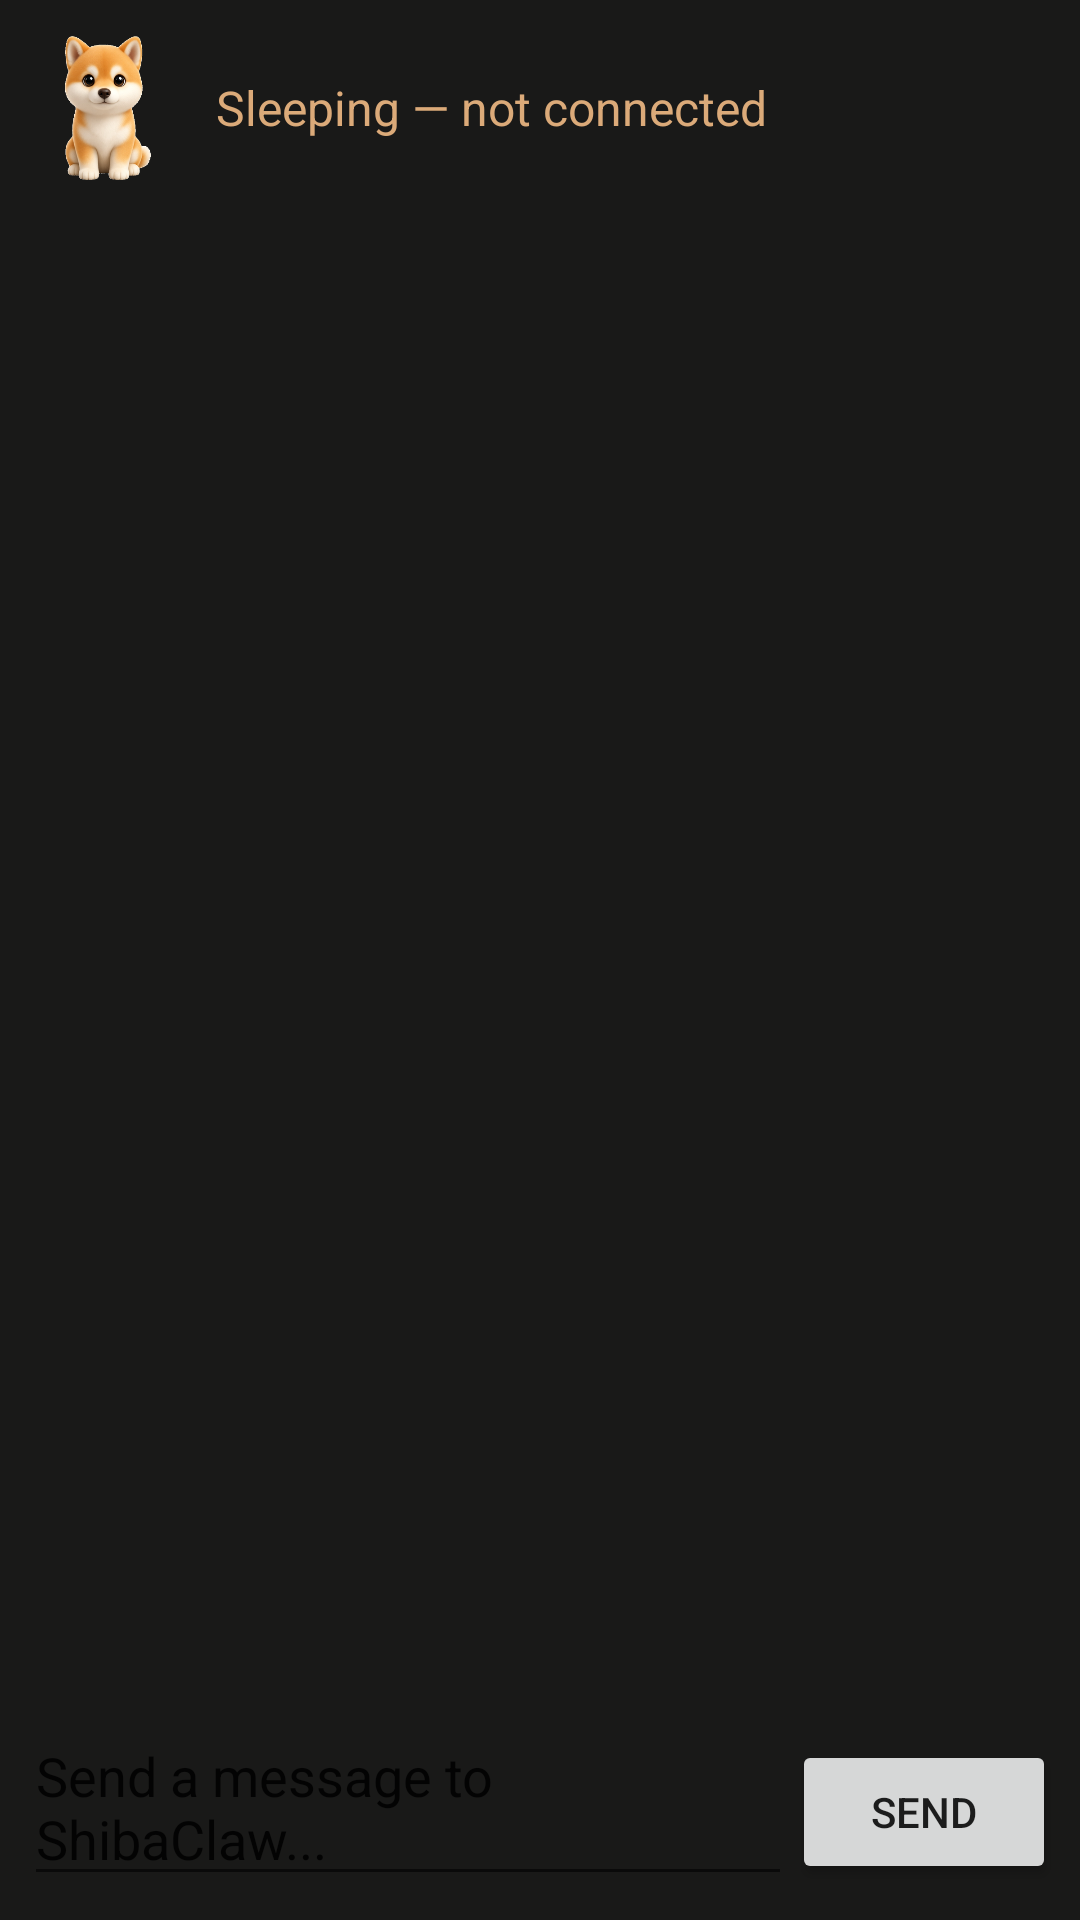

Screen size 1080×1920. Icon name, then its box in pixels as BBox(x1, y1, x2, y2):
shiba idle: BBox(65, 36, 151, 180)
